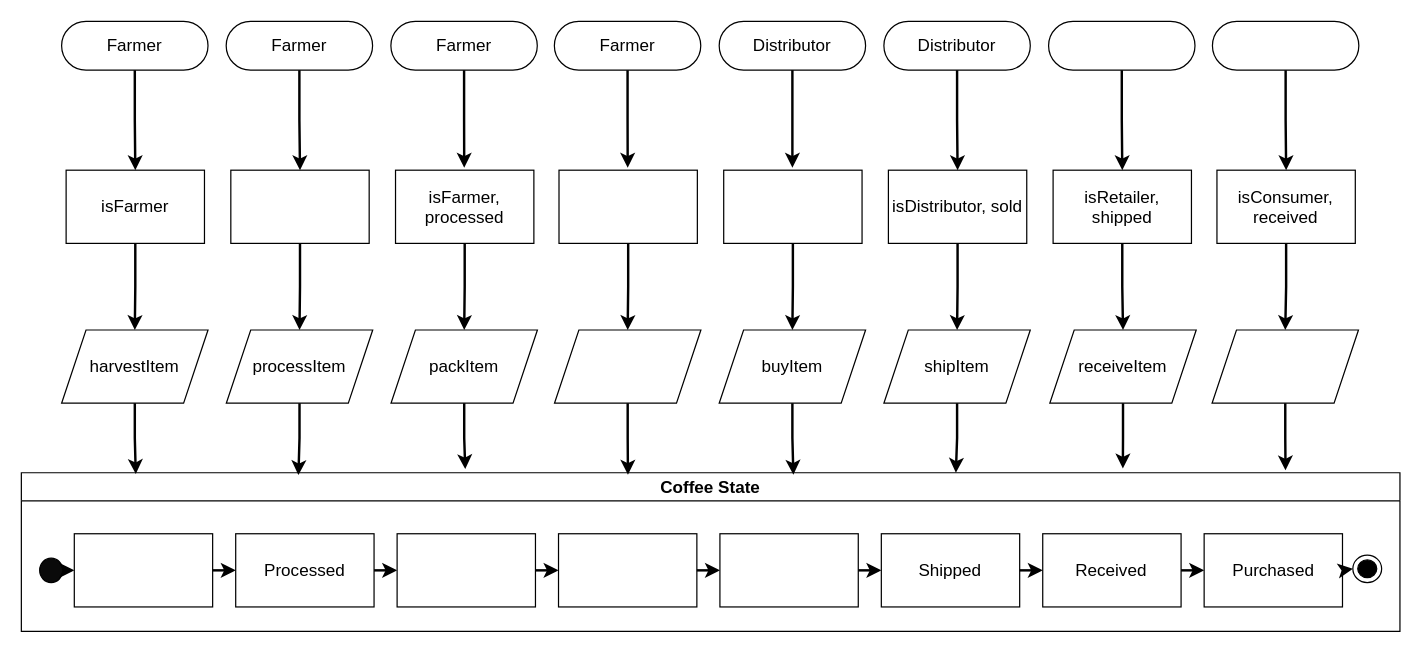
Image size: 1421x653. Some labels were removed from this diagram. The centre of each missing label's shape, as x and y in pixels:
"addItem" belongs at pixel 627 366.
"Consumer" belongs at pixel 1285 45.
"ForSale" belongs at pixel 627 570.
"Harvested" belongs at pixel 143 570.
"isDistributor, forSale" belongs at pixel 792 206.
"isFarmer, harvested" belongs at pixel 299 206.
"isFarmer, packed" belongs at pixel 627 206.
"Packed" belongs at pixel 465 570.
"purchaseItem" belongs at pixel 1284 366.
"Retailer" belongs at pixel 1121 45.
"Sold" belongs at pixel 788 570.
